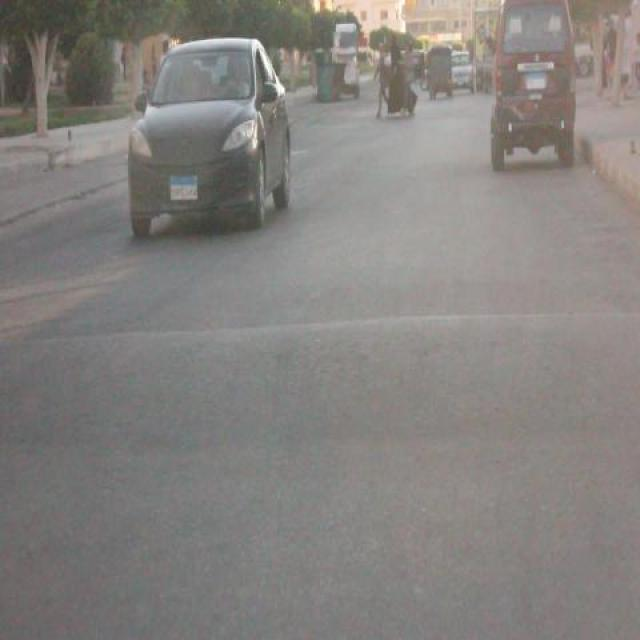Unmarked Bump: (3, 311, 640, 457)
